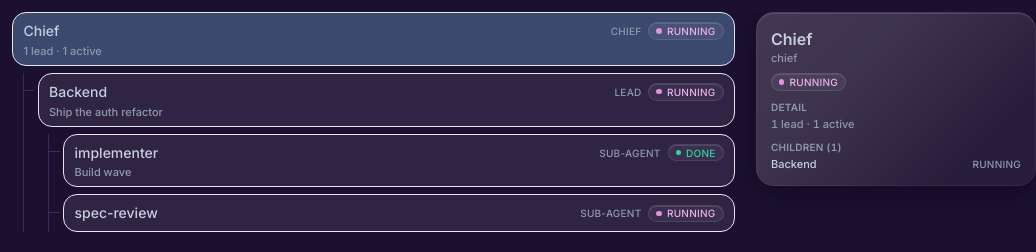
Test: DelegationTree › renders renderActions output in the inspector for the selected node (and omits the row when null)
The width and height of the screenshot is (1036, 252).
Note: Selecting the lead surfaces its action row inside the inspector.
Click the button with test id "delegation-tree-node-lead-backend". click: (78, 91)
box: x1=38 y1=73 x2=735 y2=127
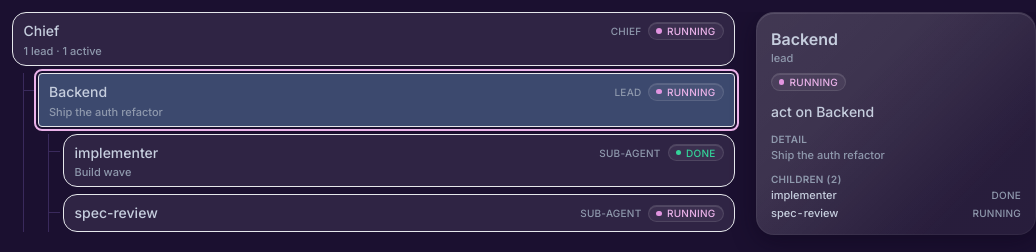
Check: the button with test id "test-action" reads "act on Backend", box x1=771 y1=101 x2=874 y2=122
